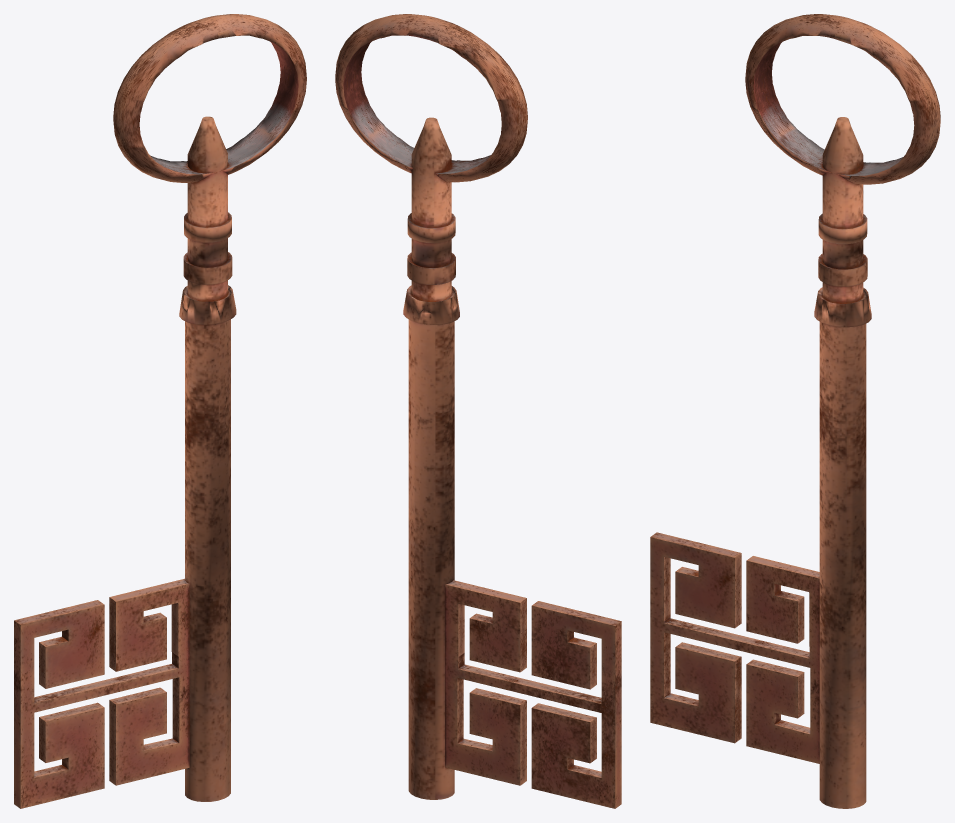
File: key_08.glb
3 views of the same model, side by side, from view 1: azimuth 30°, elevation 25°; view 2: azimuth 150°, elevation 25°; view 3: azimuth 330°, elevation 25° (orthographic).
Visible parts, largest first — view 1: Key; view 2: Key; view 3: Key.
Boxes of the visible parts, x1,y1,x2,y2 form: Key: (14,14,306,808); Key: (335,14,621,808); Key: (650,14,940,808).
Size of the model in its own units: 0.0387 by 0.1 by 0.00615.
1 material, 1 textured.
